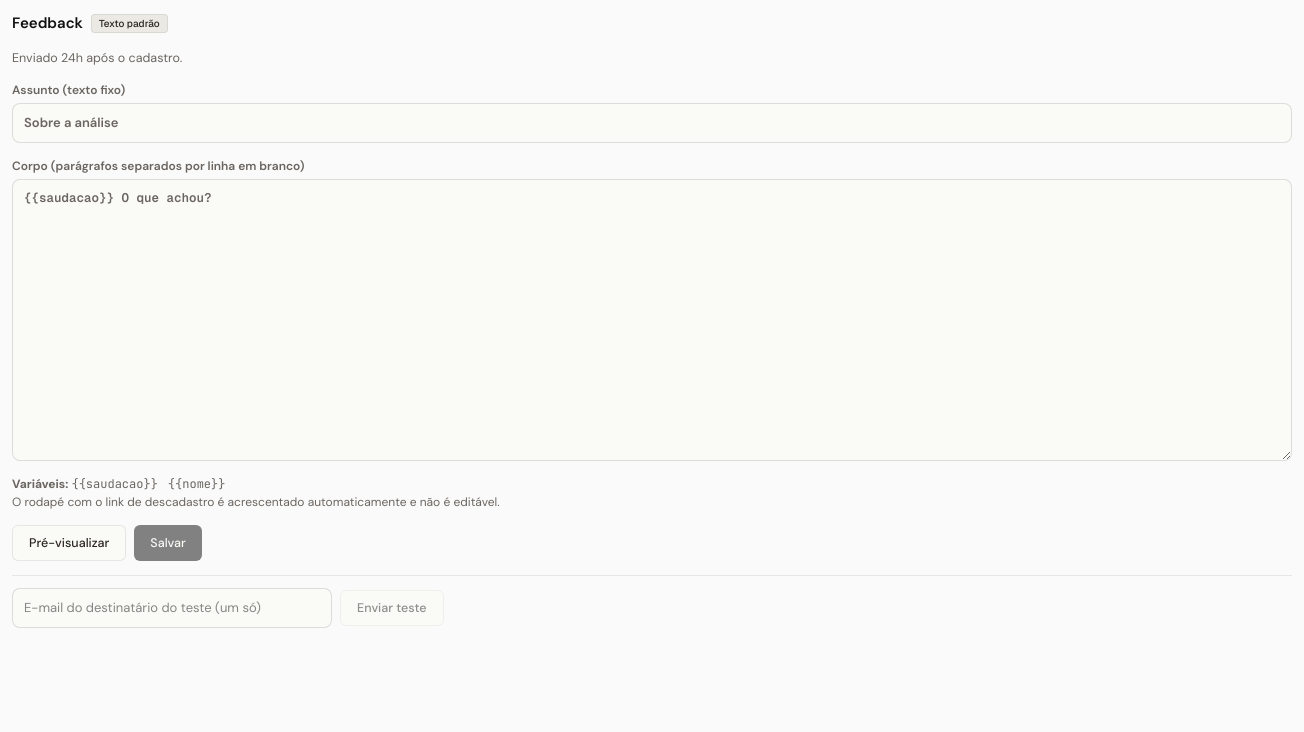
it: TemplateEditor › a rule violation from the backend is shown as an alert
This screenshot has width=1304, height=732.
Replace the text in the field showing "Sobre a análise" with "Outro" at (652, 123), box [12,103,1292,143]
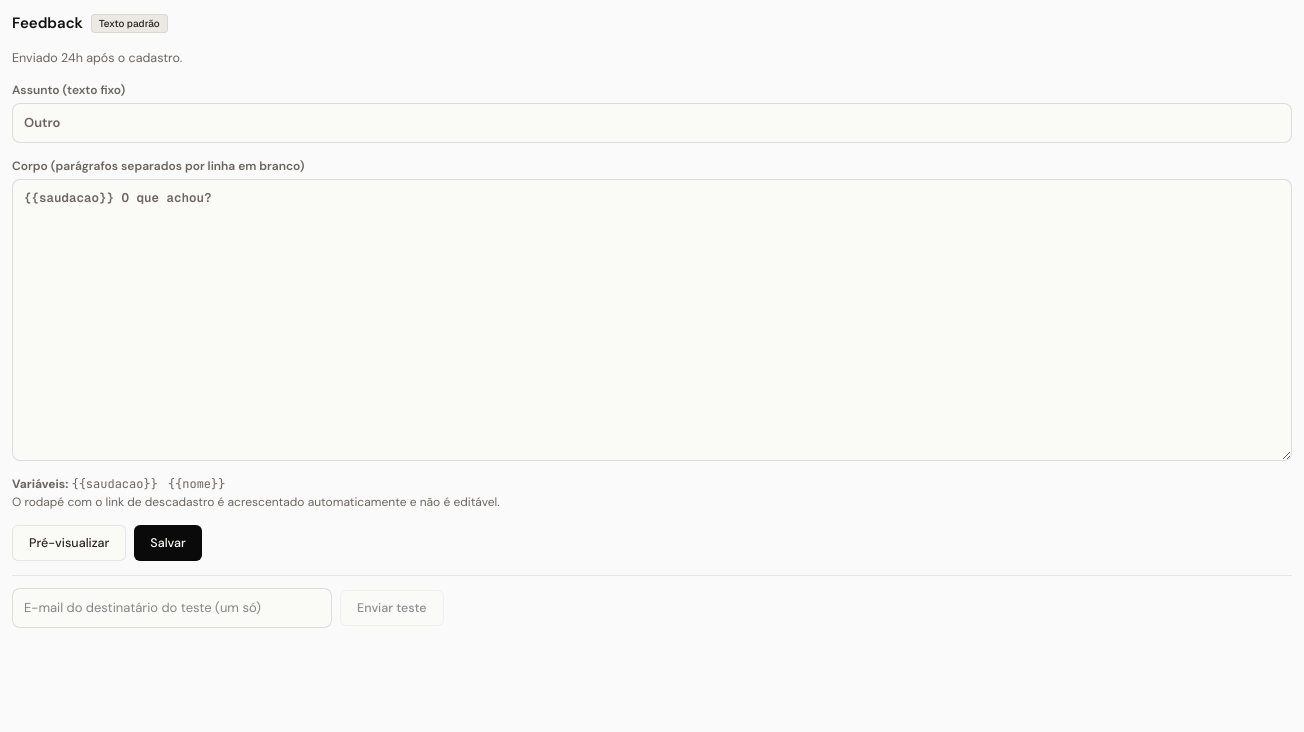
Click the button "Salvar" at (168, 543), box [134,525,202,561]
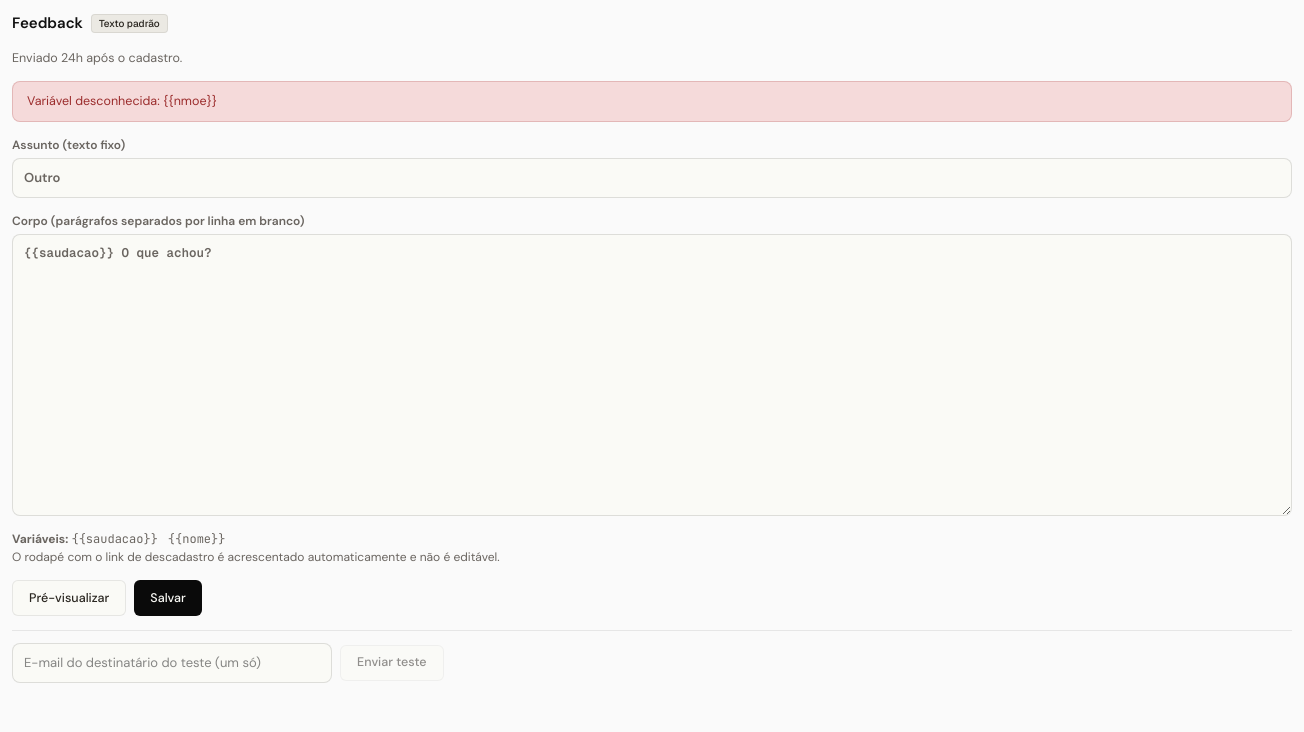
Expected: the message shows "Variável desconhecida", [27,93,217,109]
